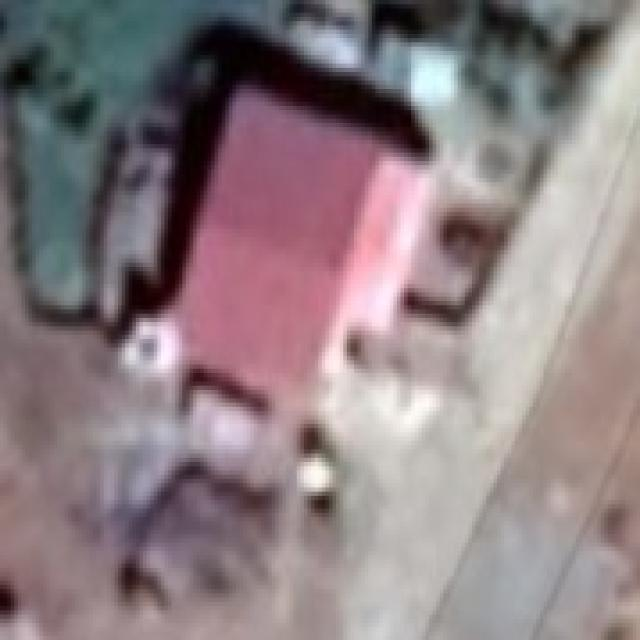Batiment: (170, 86, 426, 444)
